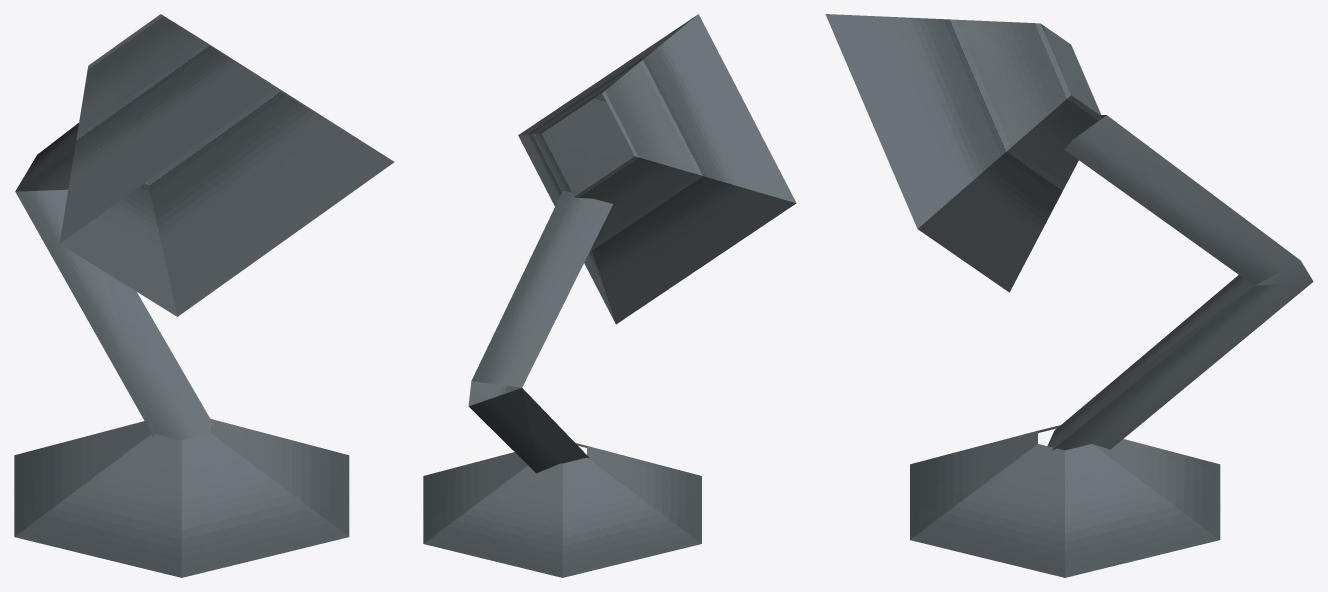
The model's file is desklamp.fbx.
The picture shows the model from 3 angles, left to right: view 1: azimuth 30°, elevation 25°; view 2: azimuth 150°, elevation 25°; view 3: azimuth 270°, elevation 25°; orthographic projection. The views are drawn at different scales.
Parts seen in each view (by area): view 1: desklamp; view 2: desklamp; view 3: desklamp.
Part boxes in pixels (<box>): desklamp: <box>14,14,394,577</box>; desklamp: <box>423,14,796,577</box>; desklamp: <box>825,14,1313,577</box>.
Size of the model in its own units: 29.59 by 39.06 by 36.56.
